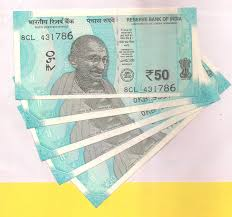fifty: (19, 26, 182, 82)
